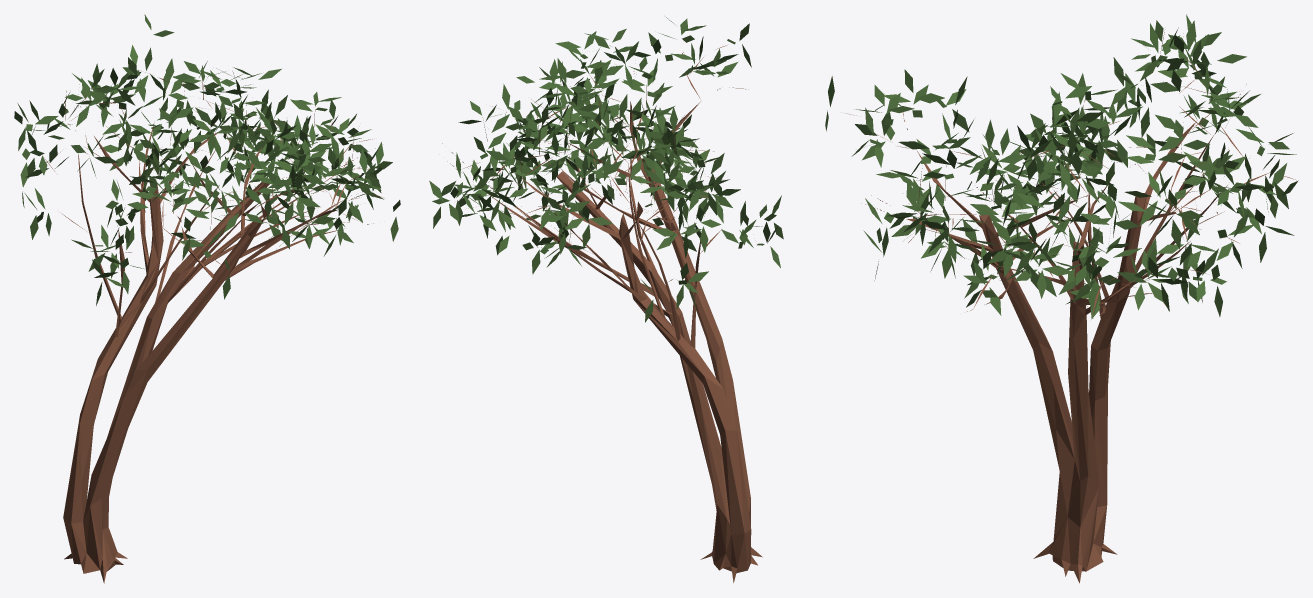
Rendered from ArbousierCanopee_0_Niveau2.fbx.
The picture shows the model from 3 angles, left to right: view 1: azimuth 30°, elevation 25°; view 2: azimuth 150°, elevation 25°; view 3: azimuth 270°, elevation 25°; orthographic projection. The views are drawn at different scales.
Visible parts, largest first — view 1: ArbousierCanopee_0_Niveau2; view 2: ArbousierCanopee_0_Niveau2; view 3: ArbousierCanopee_0_Niveau2.
Part boxes in pixels (left/top/right/bottom): ArbousierCanopee_0_Niveau2: left=14, top=14, right=400, bottom=583; ArbousierCanopee_0_Niveau2: left=429, top=17, right=783, bottom=582; ArbousierCanopee_0_Niveau2: left=825, top=14, right=1298, bottom=583.
Size of the model in its own units: 244 by 339 by 258.
